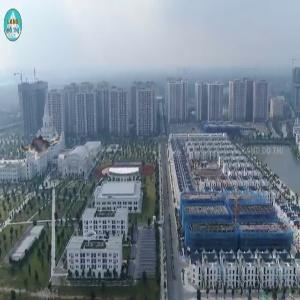drone: (13, 119, 66, 172)
